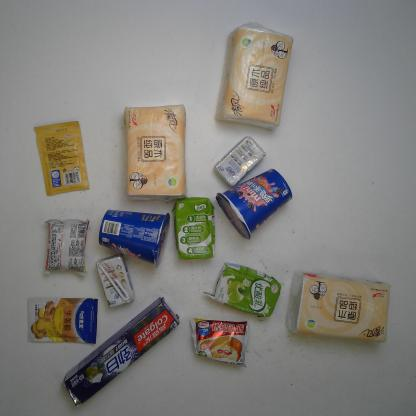Dessert: (215, 167, 293, 241), (97, 209, 171, 270), (189, 317, 251, 369), (43, 218, 90, 278)
Milk: (202, 262, 282, 318), (171, 196, 216, 260), (212, 135, 266, 188), (95, 252, 136, 309)
Personal Hygiene: (61, 296, 180, 408)
Seasoner: (33, 120, 90, 197), (28, 296, 98, 344)
Tissue: (214, 19, 294, 133), (284, 269, 392, 343), (123, 104, 188, 202)
